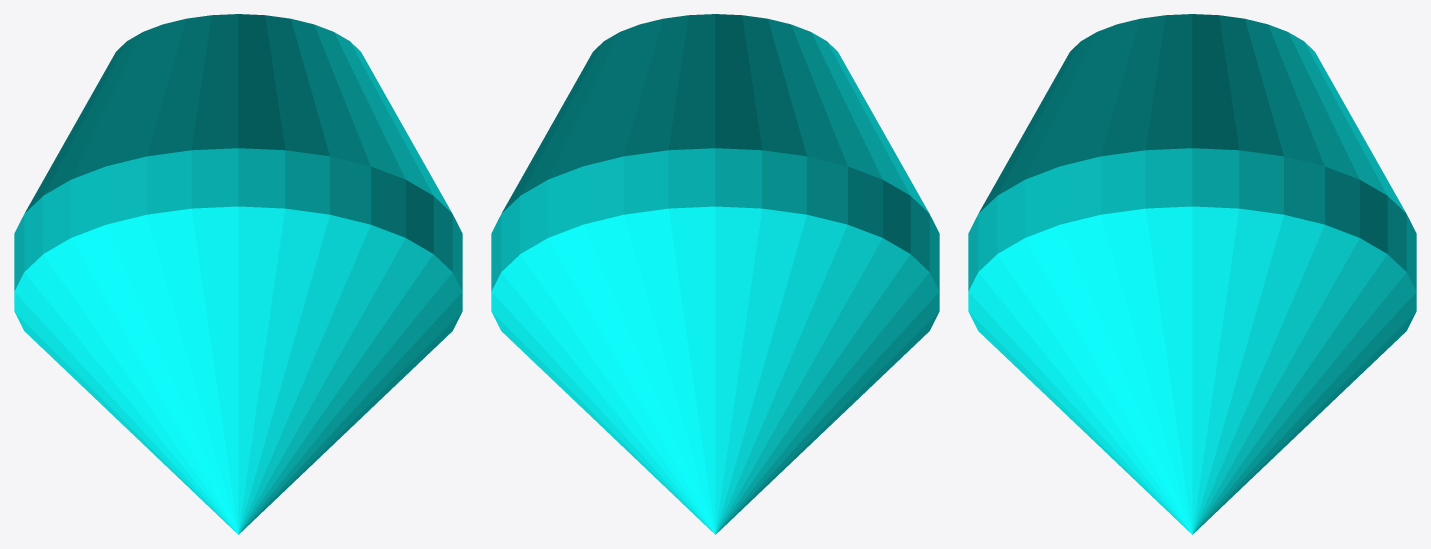
3 views of the same model, side by side, from view 1: azimuth 30°, elevation 25°; view 2: azimuth 150°, elevation 25°; view 3: azimuth 270°, elevation 25° (orthographic).
Parts seen in each view (by area): view 1: algeomath; view 2: algeomath; view 3: algeomath.
Boxes of the visible parts, x1=… form: algeomath: x1=14, y1=14, x2=462, y2=534; algeomath: x1=491, y1=14, x2=939, y2=534; algeomath: x1=968, y1=14, x2=1416, y2=534.
Size of the model in its own units: 7 by 8 by 6.96.
